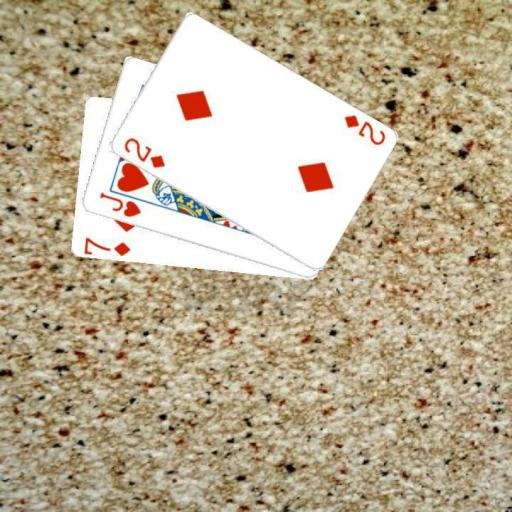card-corner: (120, 134, 166, 170), (340, 112, 386, 147), (96, 189, 142, 219), (80, 234, 132, 257)
